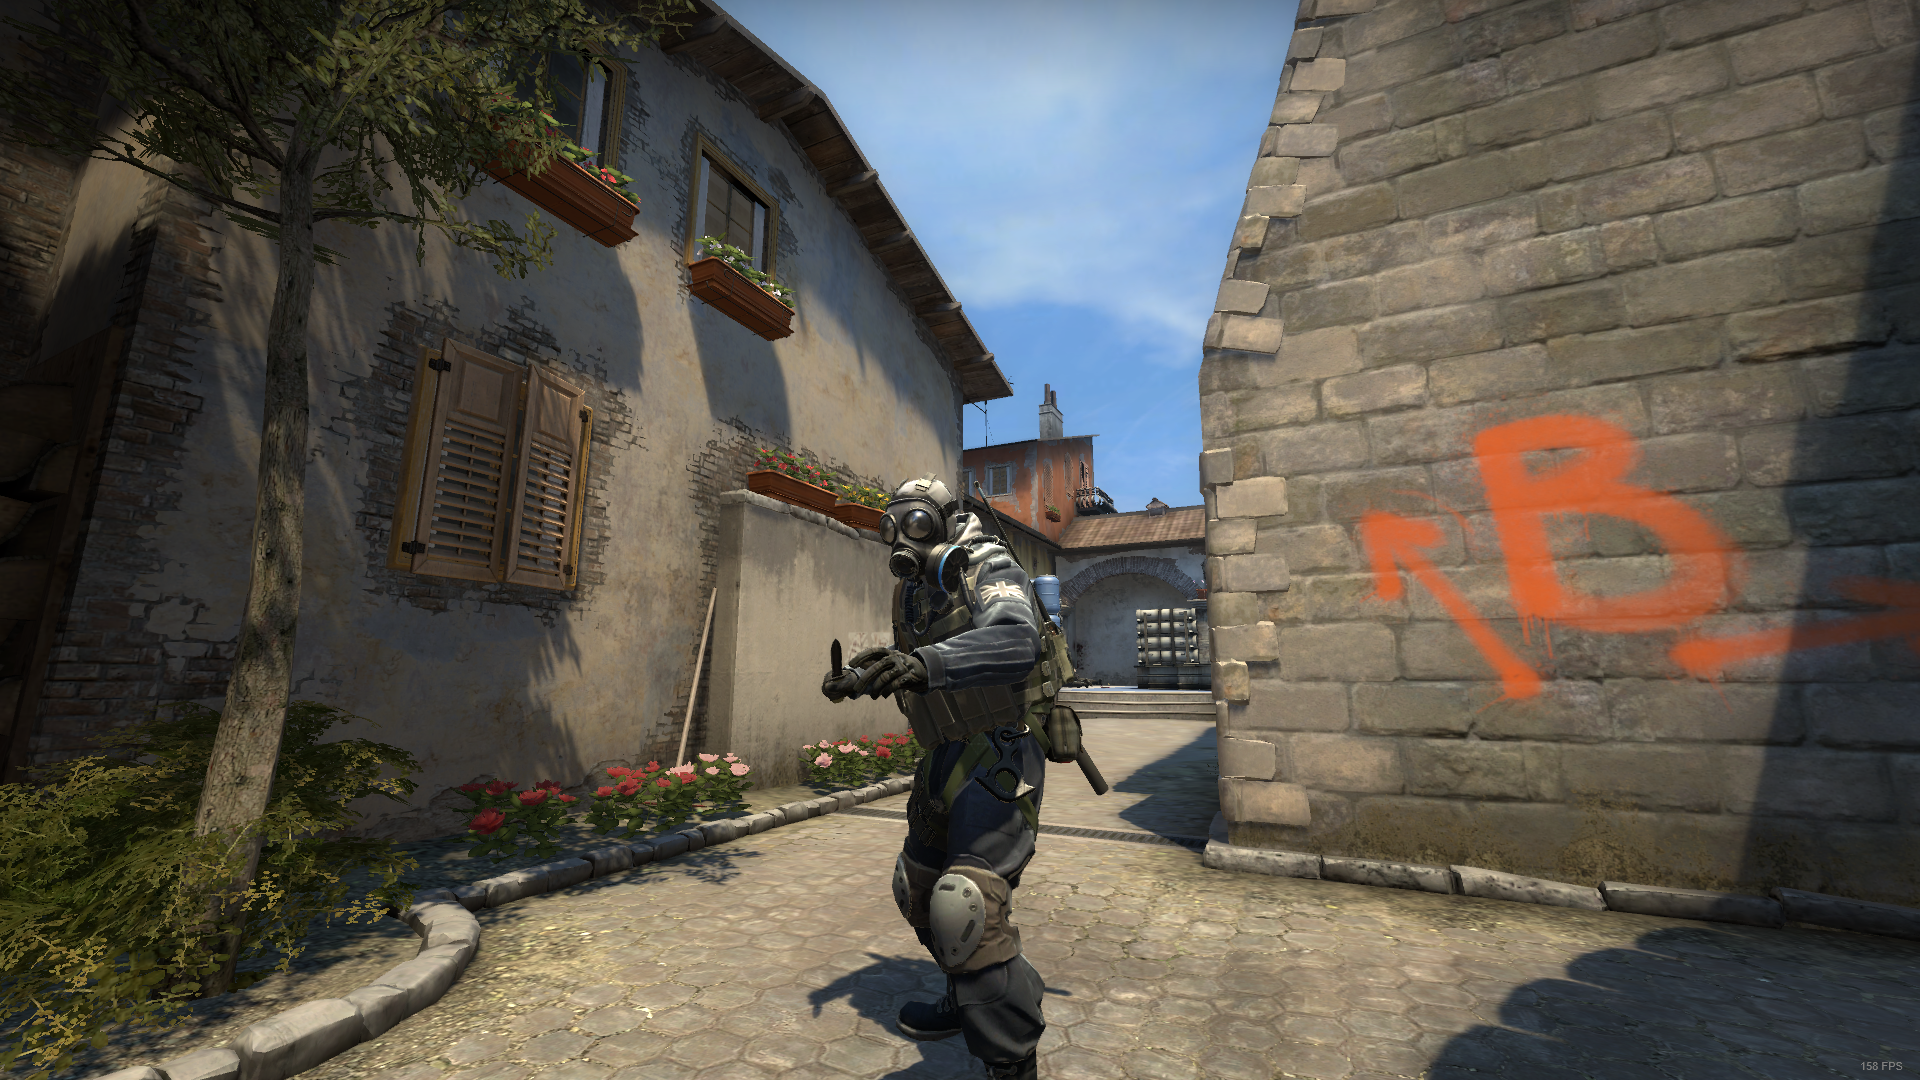ct: (824, 476, 1112, 1080)
